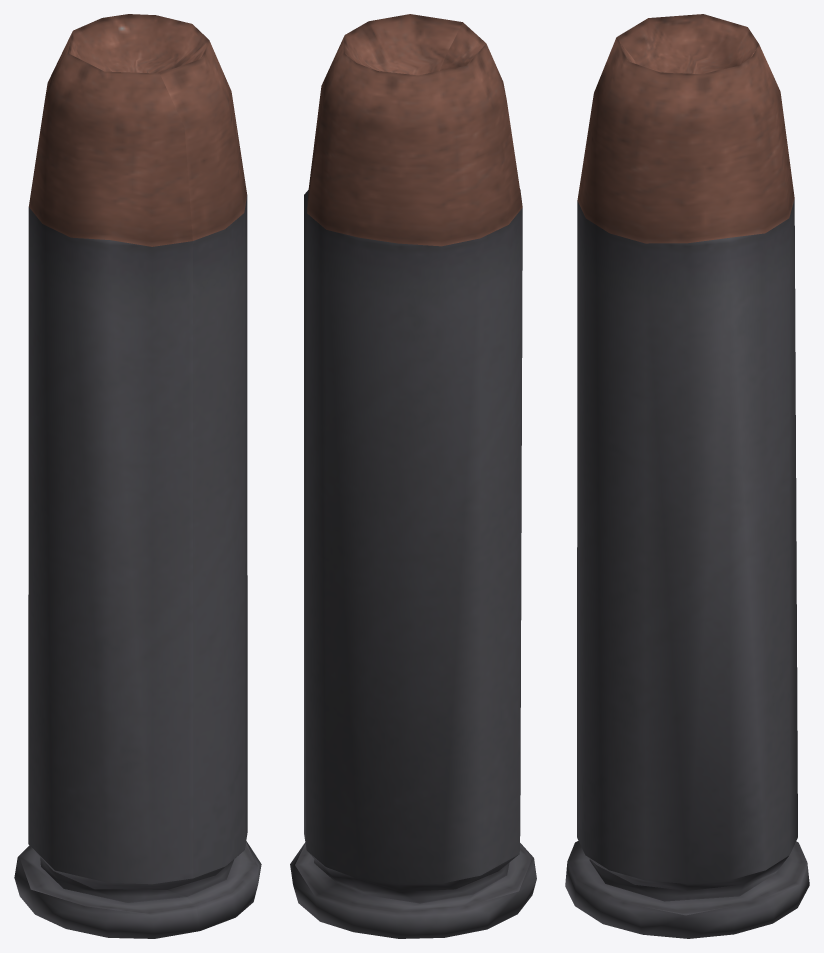
The model's file is RoundsMagnum.fbx.
The picture shows the model from 3 angles, left to right: view 1: azimuth 30°, elevation 25°; view 2: azimuth 150°, elevation 25°; view 3: azimuth 270°, elevation 25°; orthographic projection.
Visible parts, largest first — view 1: RoundsMagnum; view 2: RoundsMagnum; view 3: RoundsMagnum.
Part boxes in pixels (box(x1,y1,x2,y2)): RoundsMagnum: box(14, 14, 261, 938); RoundsMagnum: box(290, 14, 536, 938); RoundsMagnum: box(565, 14, 809, 938).
Size of the model in its own units: 0.00837 by 0.0318 by 0.00834.
